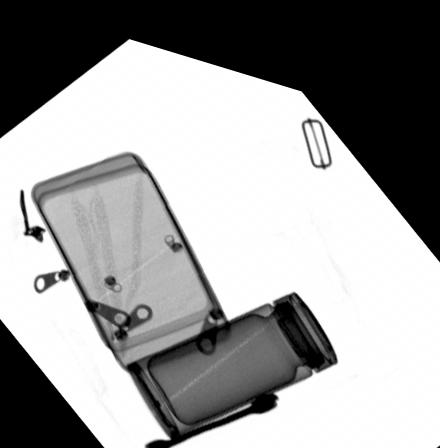Wrench: (141, 372, 279, 448)
